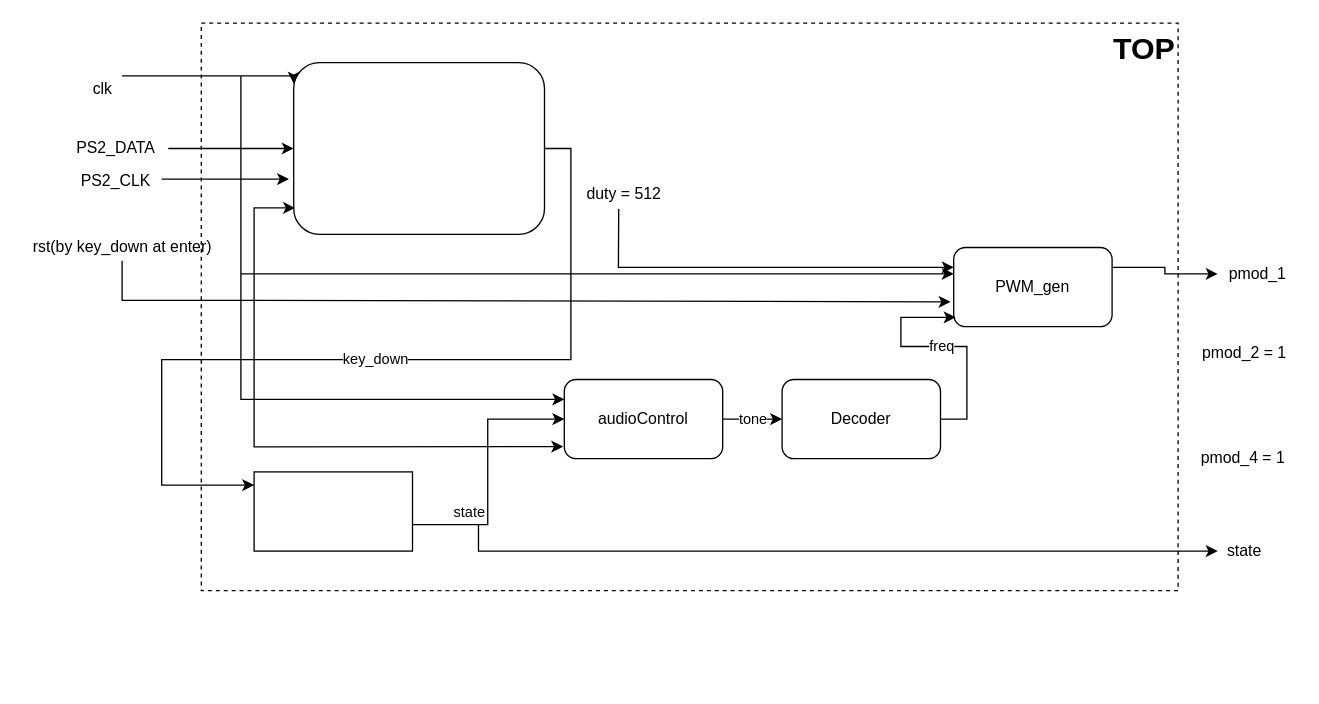
This 1319x704 diagram has some shape labels left out. The centre of each missing label's shape, as x and y in pixels:
"KeyboardDecoder" goes at pixel 418 147.
"state_part" goes at pixel 332 511.
